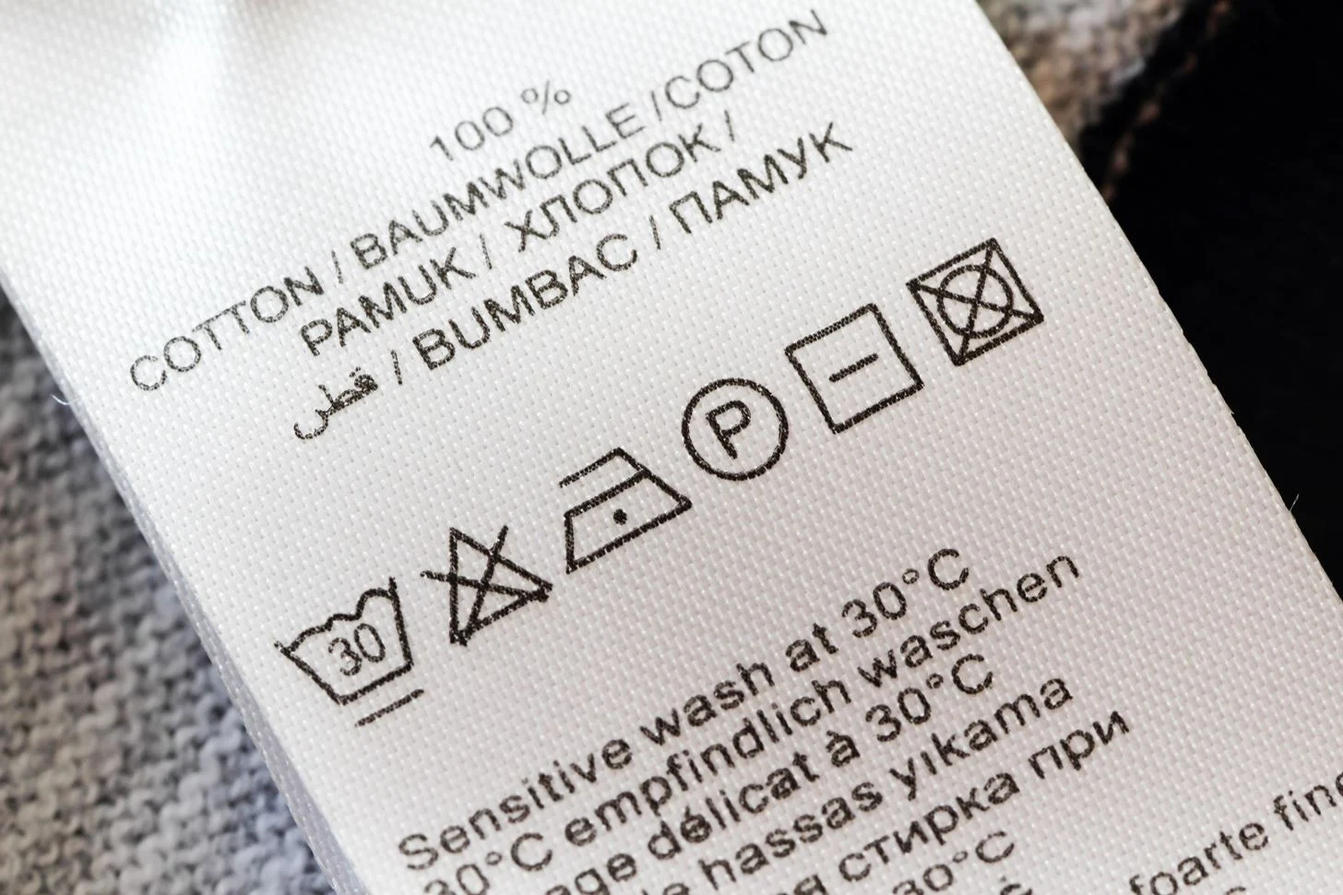ER_dry_clean_chemical: (681, 368, 798, 487)
ER_flat_dry: (765, 288, 940, 456)
ER_iron_low_temp: (557, 434, 696, 577)
ER_no_bleach: (417, 512, 566, 648)
ER_no_tumble_dry: (890, 221, 1063, 385)
ER_wash_30_mild: (251, 563, 433, 738)
